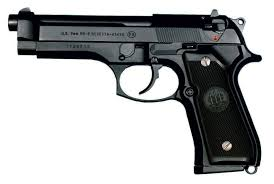Gun: (3, 8, 269, 178)
